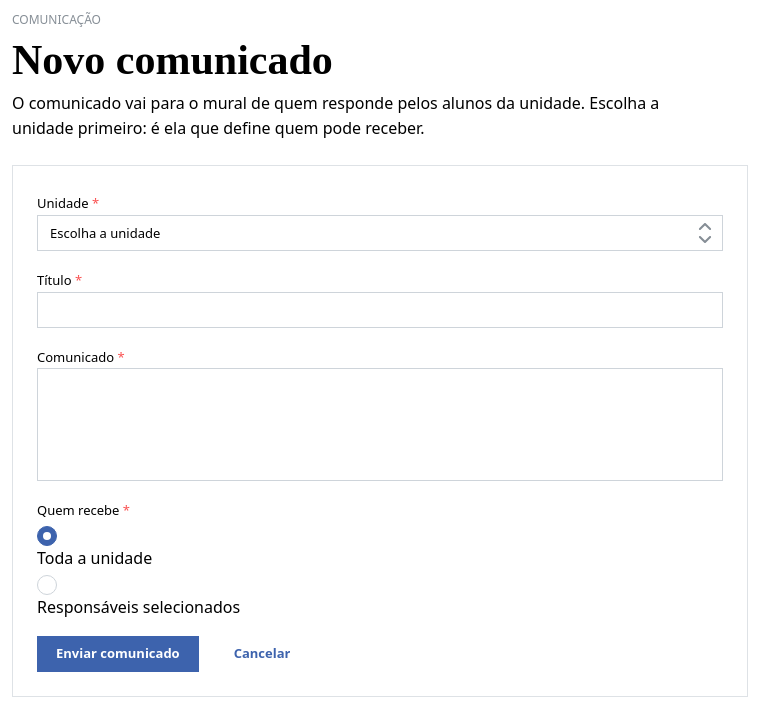
Test case: AnnouncementForm › choosing a school fetches its recipients on the same screen
Select "Escola Central" in the dropdown labelled "Unidade". click: (380, 233)
box: [37, 215, 723, 251]
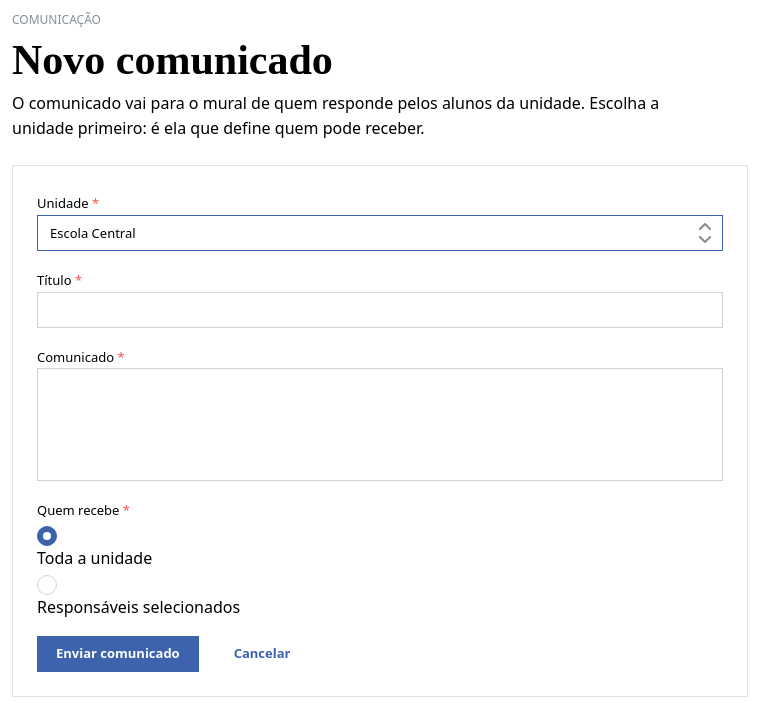
Click the radio button labelled "Responsáveis selecionados". click: (47, 585)
box: [37, 575, 57, 595]
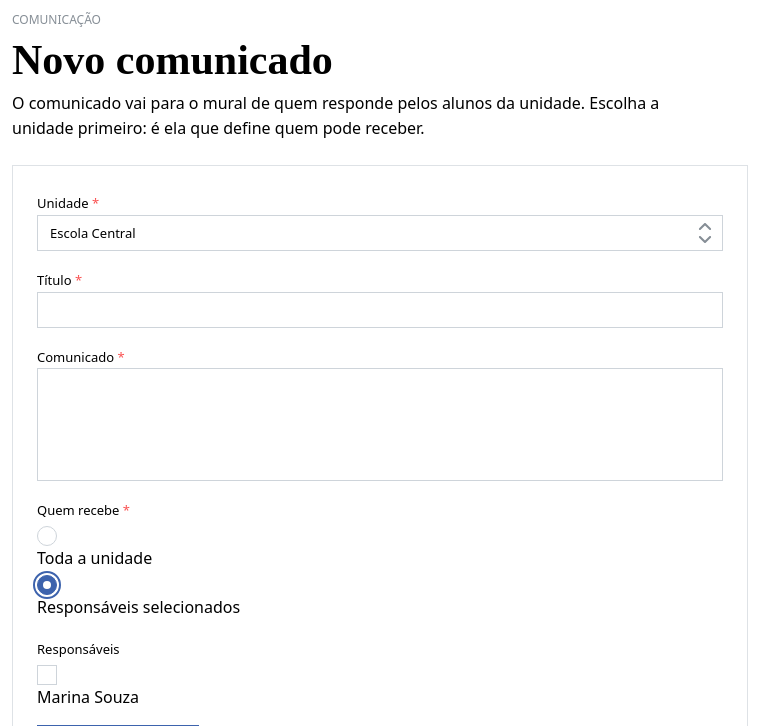
Result: the checkbox labelled "Marina Souza" is shown at [37, 665, 57, 685]
